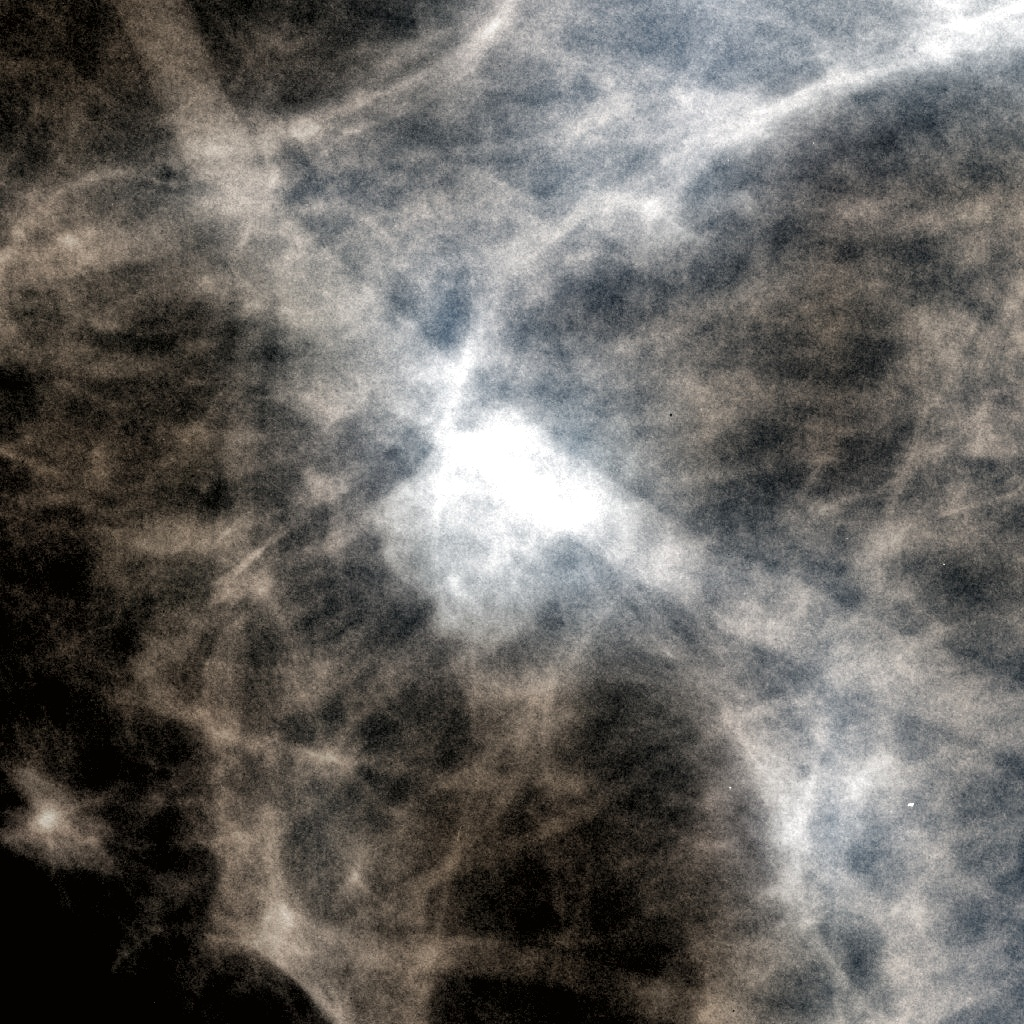tumor: (330, 350, 694, 674)
